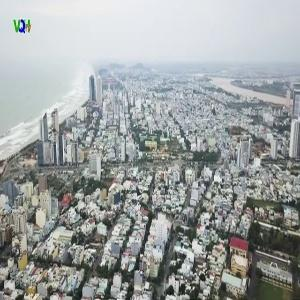drone: (36, 113, 76, 153)
